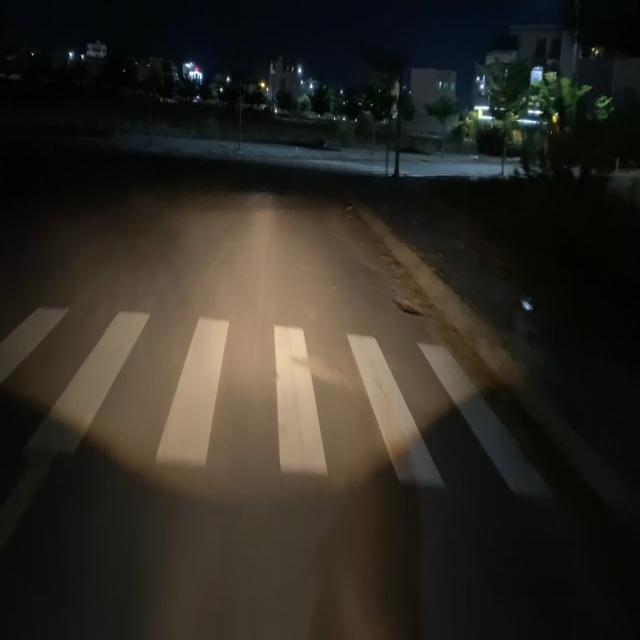walk-crossing: (6, 292, 554, 512)
